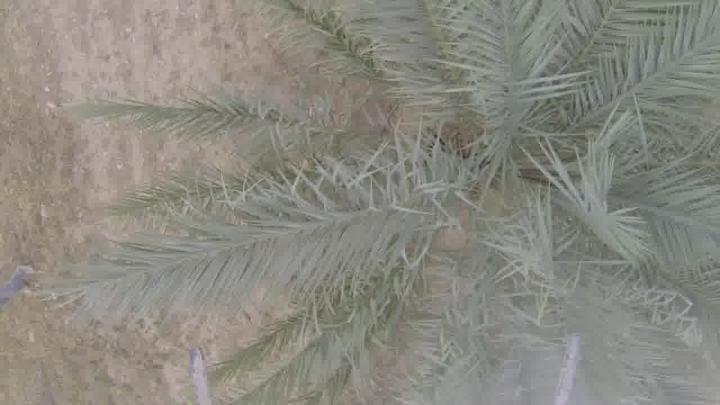Date-Palm-Crown: (247, 0, 707, 356)
